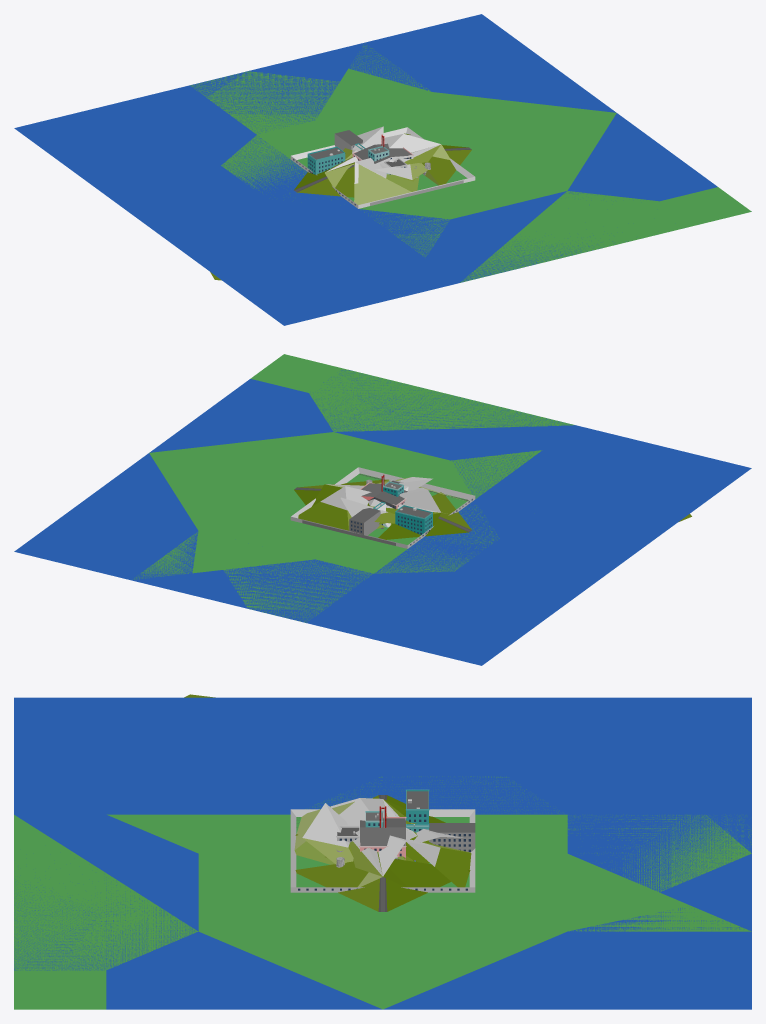
3 views of the same model, one above another, from view 1: azimuth 30°, elevation 25°; view 2: azimuth 150°, elevation 25°; view 3: azimuth 270°, elevation 25° (orthographic). The views are drawn at different scales.
Visible parts, largest first — view 1: ua_059_lod0, ua_058_lod0, ua_001_lod0, ua_060_lod0, ua_061_lod0, ua_002_lod0, ua_057_lod0, ua_003_lod0, ua_062_lod0_s1v0, ua_087_lod0, ua_070_lod0, ua_029_lod0 (+2 smaller); view 2: ua_059_lod0, ua_058_lod0, ua_001_lod0, ua_060_lod0, ua_002_lod0, ua_061_lod0, ua_057_lod0, ua_090_lod0, ua_062_lod0_s1v0, ua_087_lod0, ua_029_lod0, ua_003_lod0 (+1 smaller); view 3: ua_058_lod0, ua_059_lod0, ua_001_lod0, ua_060_lod0, ua_002_lod0, ua_057_lod0, ua_061_lod0, ua_070_lod0, ua_090_lod0, ua_029_lod0, ua_062_lod0_s1v0, ua_003_lod0 (+6 smaller).
Boxes of the visible parts, left/top/right/bottom form: ua_059_lod0: left=17, top=113, right=717, bottom=325; ua_058_lod0: left=257, top=43, right=751, bottom=282; ua_001_lod0: left=14, top=14, right=582, bottom=216; ua_060_lod0: left=183, top=88, right=616, bottom=297; ua_061_lod0: left=190, top=71, right=339, bottom=193; ua_002_lod0: left=190, top=57, right=582, bottom=133; ua_057_lod0: left=16, top=71, right=246, bottom=200; ua_003_lod0: left=318, top=158, right=419, bottom=204; ua_062_lod0_s1v0: left=307, top=130, right=389, bottom=174; ua_087_lod0: left=294, top=165, right=354, bottom=197; ua_070_lod0: left=382, top=134, right=471, bottom=185; ua_029_lod0: left=290, top=127, right=475, bottom=208; ua_059_lod0: left=149, top=370, right=751, bottom=663; ua_058_lod0: left=134, top=354, right=574, bottom=579; ua_001_lod0: left=14, top=477, right=614, bottom=665; ua_060_lod0: left=115, top=440, right=684, bottom=573; ua_002_lod0: left=116, top=477, right=372, bottom=622; ua_061_lod0: left=223, top=505, right=499, bottom=622; ua_057_lod0: left=249, top=592, right=582, bottom=664; ua_090_lod0: left=298, top=484, right=391, bottom=530; ua_062_lod0_s1v0: left=349, top=482, right=432, bottom=535; ua_087_lod0: left=378, top=492, right=471, bottom=539; ua_029_lod0: left=290, top=467, right=475, bottom=548; ua_003_lod0: left=391, top=486, right=463, bottom=525; ua_058_lod0: left=14, top=814, right=751, bottom=1009; ua_059_lod0: left=14, top=697, right=750, bottom=1009; ua_001_lod0: left=383, top=697, right=751, bottom=1009; ua_060_lod0: left=14, top=697, right=566, bottom=1009; ua_002_lod0: left=444, top=814, right=751, bottom=1009; ua_057_lod0: left=478, top=697, right=751, bottom=853; ua_061_lod0: left=305, top=776, right=751, bottom=892; ua_070_lod0: left=295, top=806, right=470, bottom=911; ua_090_lod0: left=358, top=835, right=471, bottom=887; ua_029_lod0: left=290, top=809, right=475, bottom=892; ua_062_lod0_s1v0: left=365, top=791, right=475, bottom=859; ua_003_lod0: left=294, top=798, right=417, bottom=864.
Size of what is drawn, in the model's own units: 4139 by 288 by 4096.
